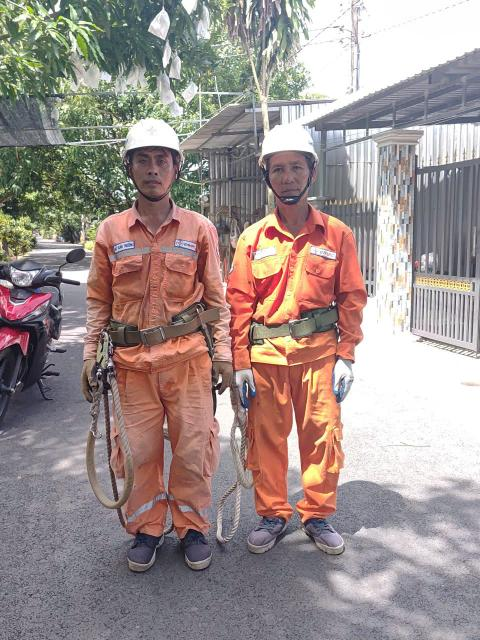gloves: (77, 349, 115, 403), (200, 352, 234, 400), (330, 355, 363, 399), (234, 364, 258, 408)
harness: (109, 300, 224, 356), (255, 308, 346, 348)
helmet: (109, 112, 195, 168), (247, 116, 323, 166)
shoes: (102, 513, 166, 582), (305, 509, 358, 555), (178, 515, 213, 574), (251, 508, 292, 555)
